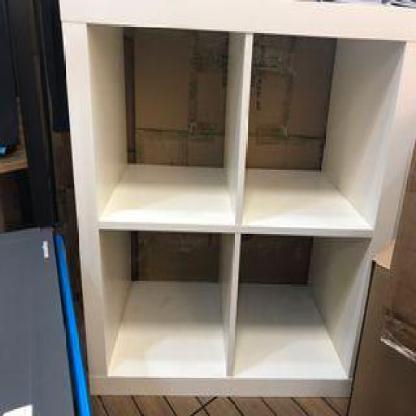lamp: (56, 0, 416, 399)
